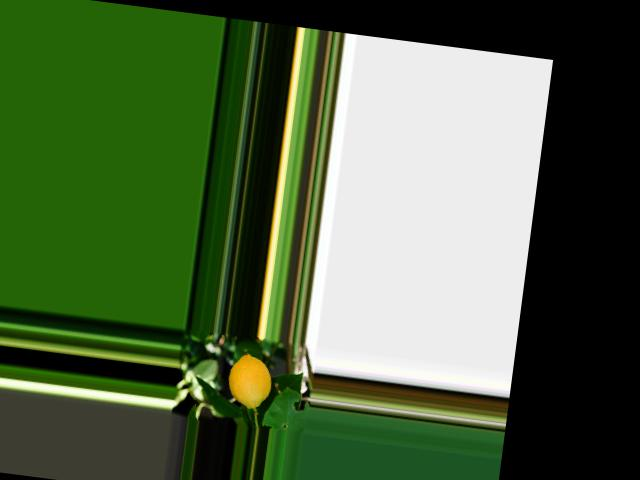lemon: (220, 344, 276, 412)
